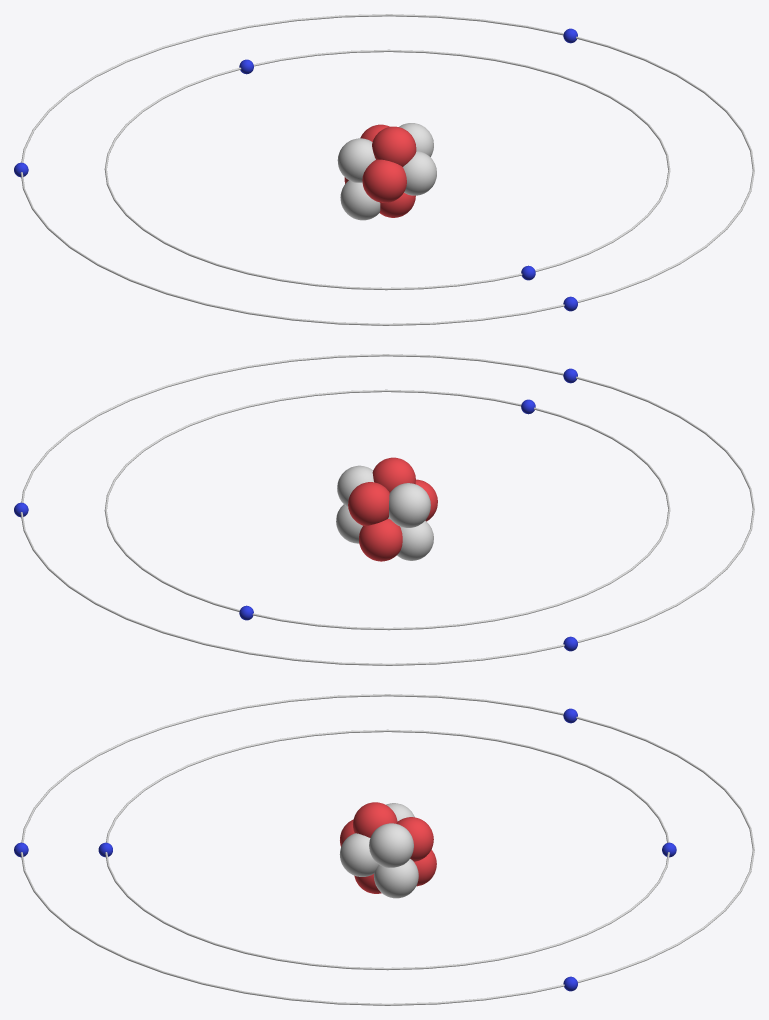
Rendered from Bor.glb.
3 views of the same model, one above another, from view 1: azimuth 30°, elevation 25°; view 2: azimuth 150°, elevation 25°; view 3: azimuth 270°, elevation 25° (orthographic).
Parts seen in each view (by area): view 1: L-Schale, K-Schale, Proton 1, Proton 2, Neutron 2, Neutron 4, Neutron 3, Neutron 6, Proton 3; view 2: L-Schale, K-Schale, Neutron 2, Proton 5, Proton 4, Neutron 3, Proton 2, Neutron 6, Neutron 5; view 3: L-Schale, K-Schale, Neutron 6, Neutron 5, Neutron 4, Proton 2, Proton 5.
Boxes of the visible parts, x1,y1,x2,y2 form: L-Schale: (20,14,754,325); K-Schale: (104,49,670,290); Proton 1: (362,159,406,202); Proton 2: (372,126,416,166); Neutron 2: (337,138,375,182); Neutron 4: (403,151,436,195); Neutron 3: (340,180,380,220); Neutron 6: (399,123,433,156); Proton 3: (380,193,415,217); L-Schale: (20,354,754,665); K-Schale: (104,389,670,630); Neutron 2: (389,483,430,527); Proton 5: (348,482,389,525); Proton 4: (359,519,402,561); Neutron 3: (397,520,433,560); Proton 2: (372,457,415,492); Neutron 6: (337,465,373,506); Neutron 5: (336,504,362,543); L-Schale: (20,694,754,1005); K-Schale: (105,729,669,970); Neutron 6: (369,823,413,867); Neutron 5: (374,859,418,898); Neutron 4: (339,833,378,876); Proton 2: (353,802,397,837); Proton 5: (397,817,433,861).
Bounding box in the file's own units: 13.04 × 1.73 × 13.15.
